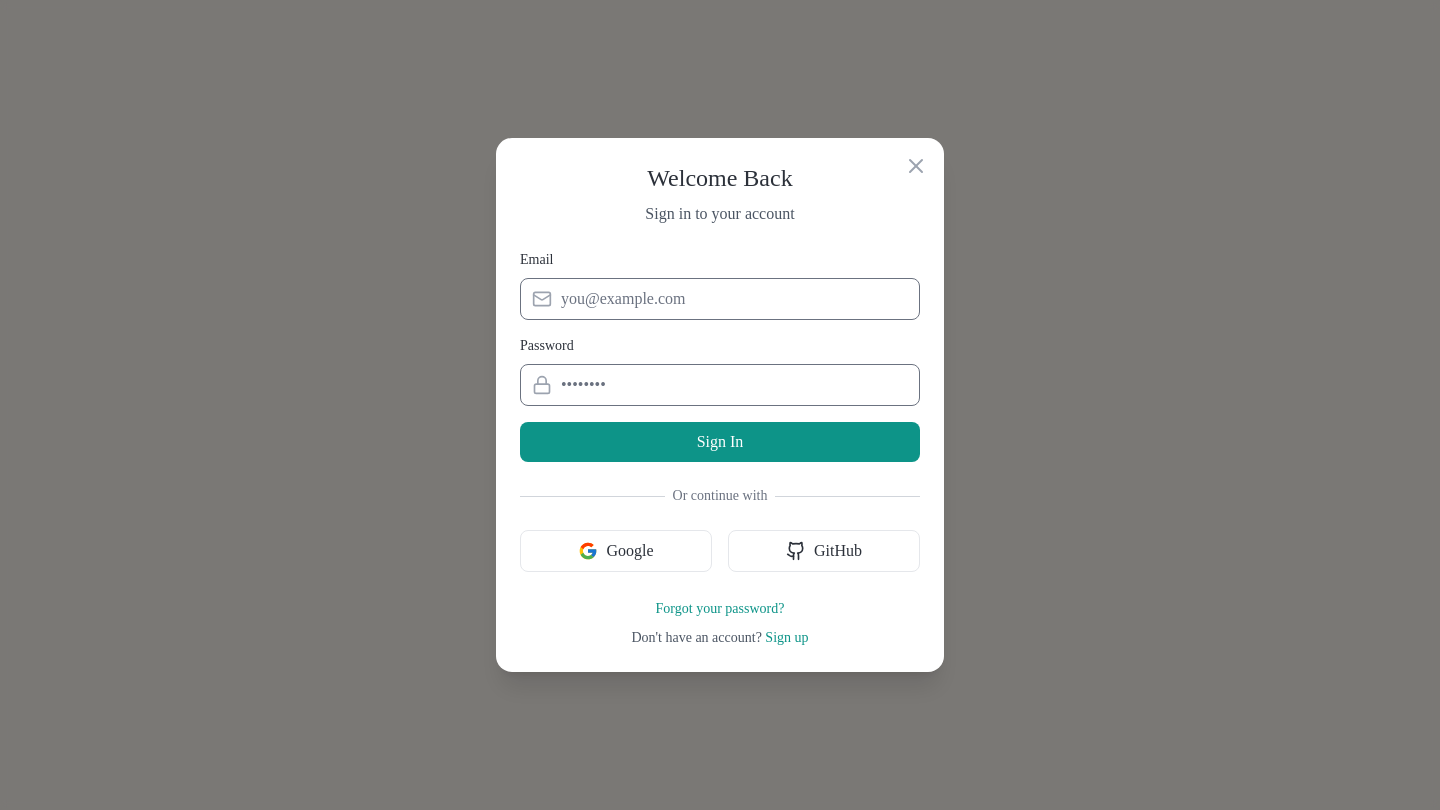
Test: AuthModal › switches to forgot password form when clicking forgot password
Click the button "Forgot your password?".
click(720, 609)  # box [656,599,784,619]
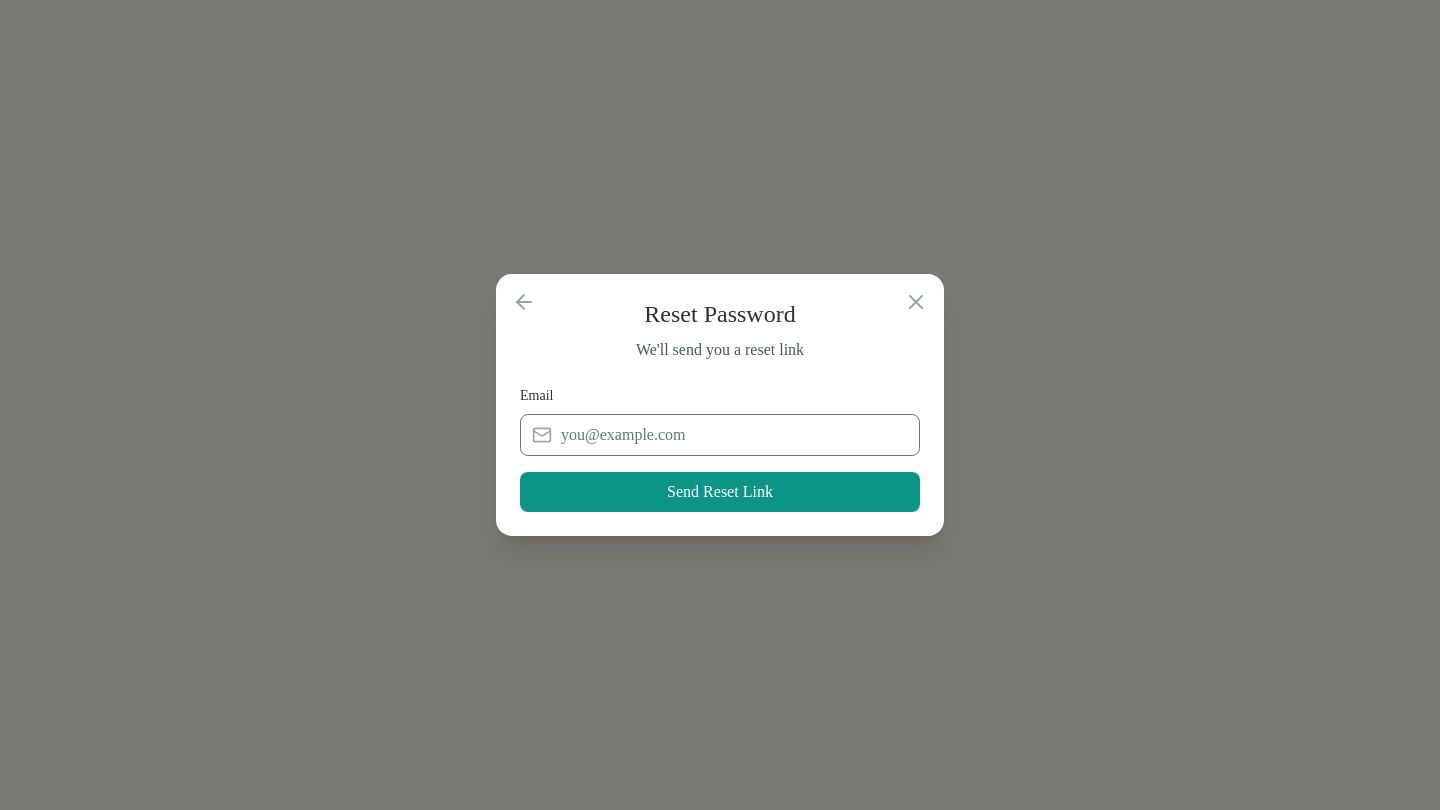
Result: the heading "Reset Password" is shown at [644,301,796,327]
